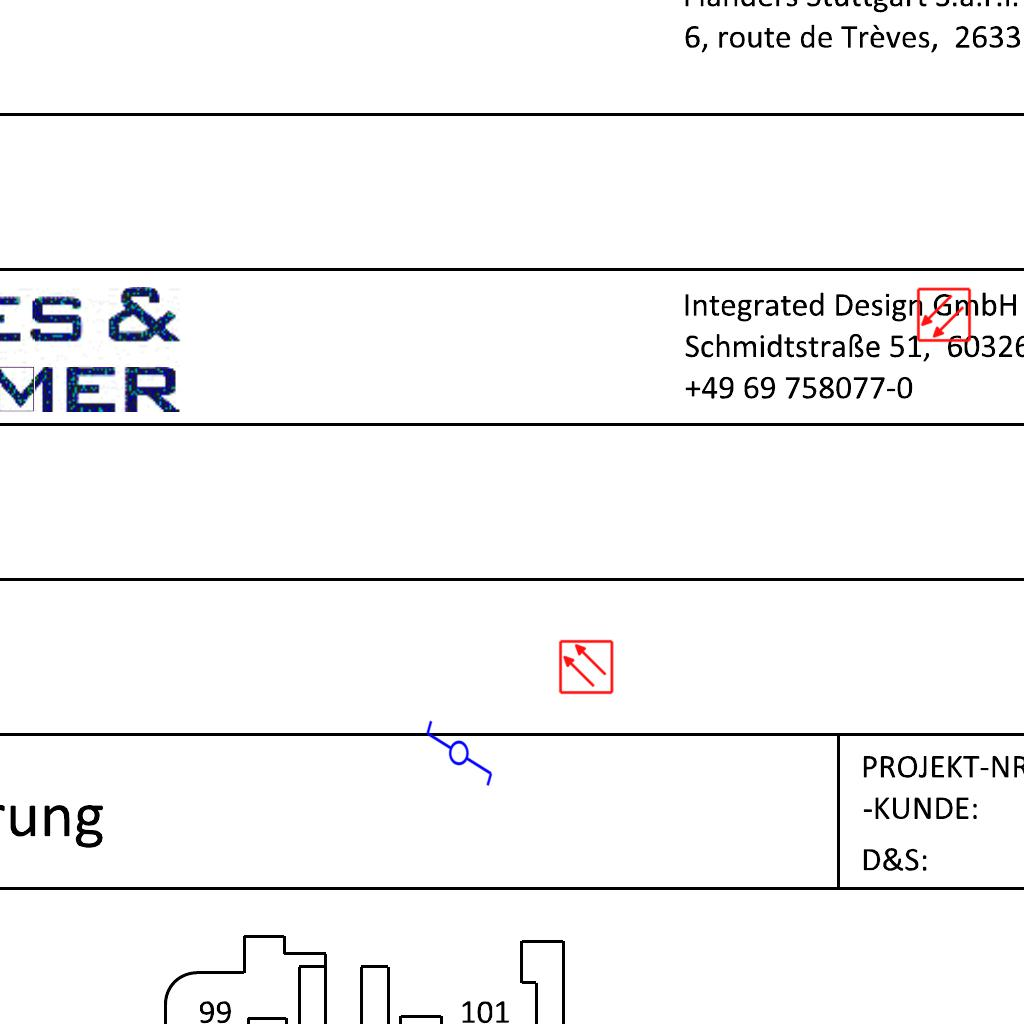RMO_Rauchmelder_optischer: (916, 287, 972, 343), (558, 639, 614, 695)
Wechselschalter: (424, 710, 496, 788)
